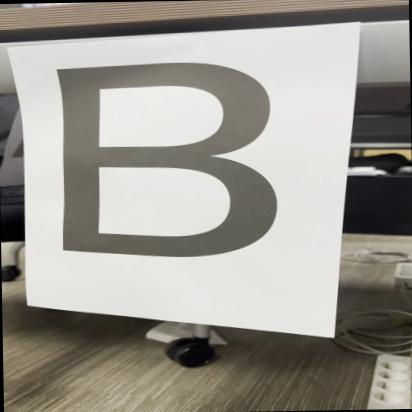seat: (40, 54, 278, 274)
